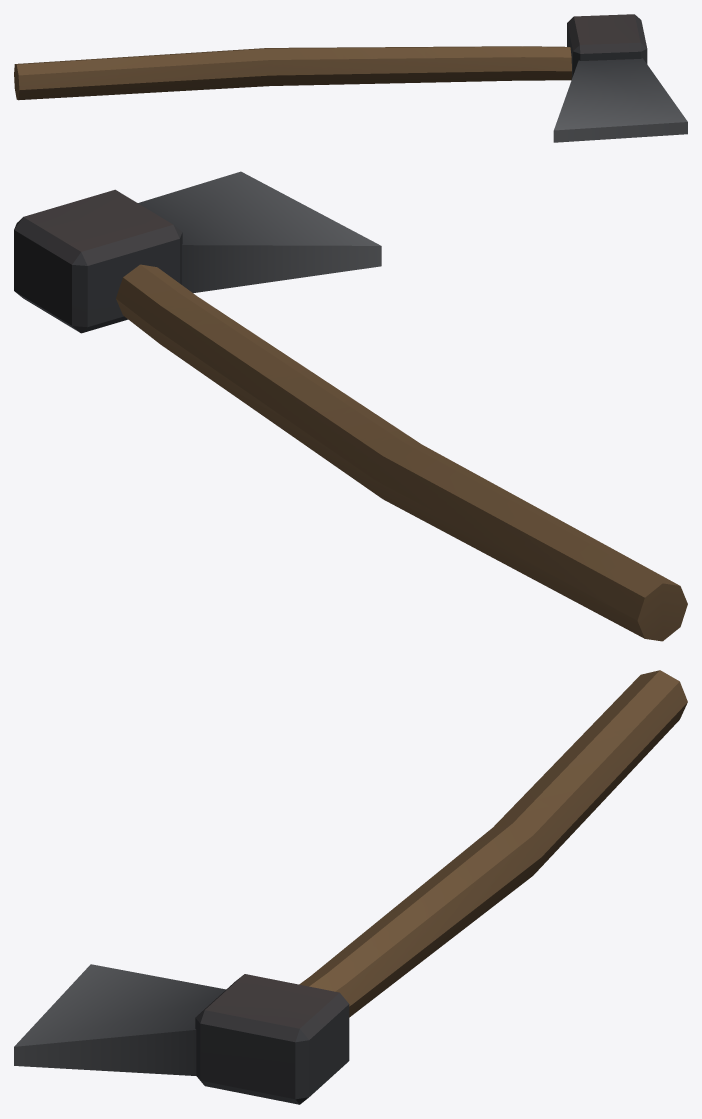
The model's file is ph_item_axe_iron.glb.
3 views of the same model, one above another, from view 1: azimuth 30°, elevation 25°; view 2: azimuth 150°, elevation 25°; view 3: azimuth 270°, elevation 25° (orthographic). The views are drawn at different scales.
Parts seen in each view (by area): view 1: ph_item_axe_iron; view 2: ph_item_axe_iron; view 3: ph_item_axe_iron.
Boxes of the visible parts, x1=… form: ph_item_axe_iron: x1=14, y1=14, x2=687, y2=142; ph_item_axe_iron: x1=14, y1=171, x2=687, y2=641; ph_item_axe_iron: x1=14, y1=670, x2=687, y2=1104.
Bounding box in the file's own units: 0.3499 × 0.032 × 0.257.
